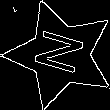N_E: (29, 28, 92, 81)
